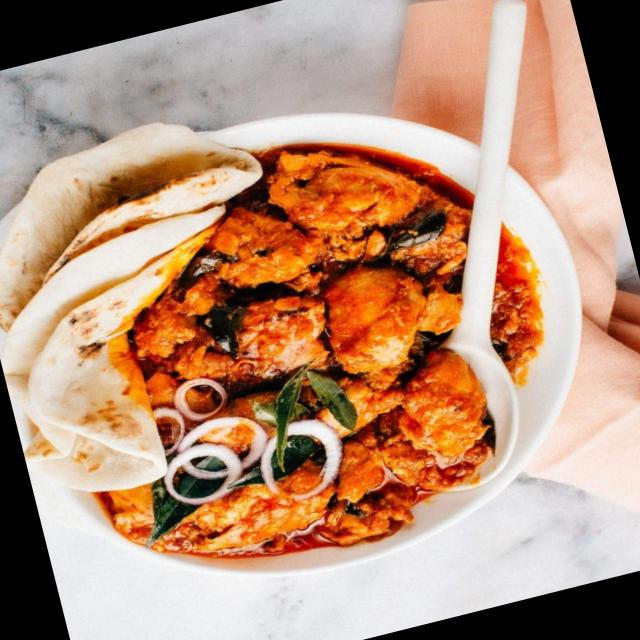chicken: (115, 122, 558, 573)
roti: (0, 162, 167, 497)
